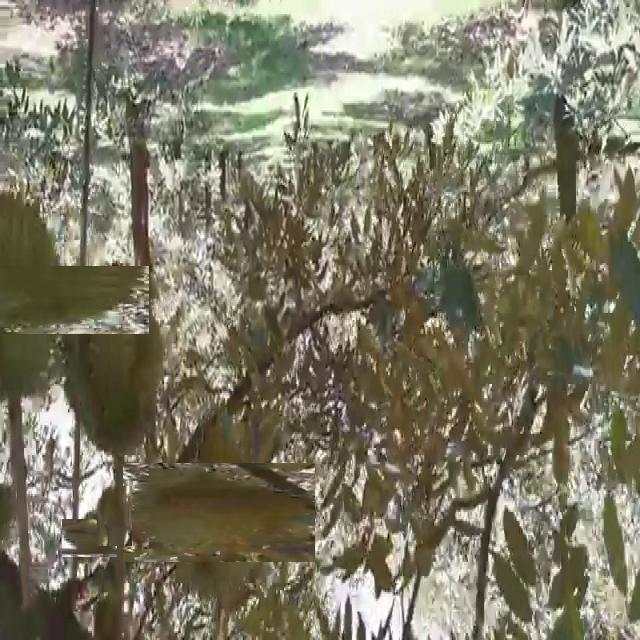durian: (60, 260, 168, 464), (146, 440, 292, 586), (0, 226, 109, 375), (66, 514, 112, 562), (97, 486, 132, 546), (0, 482, 25, 556)
